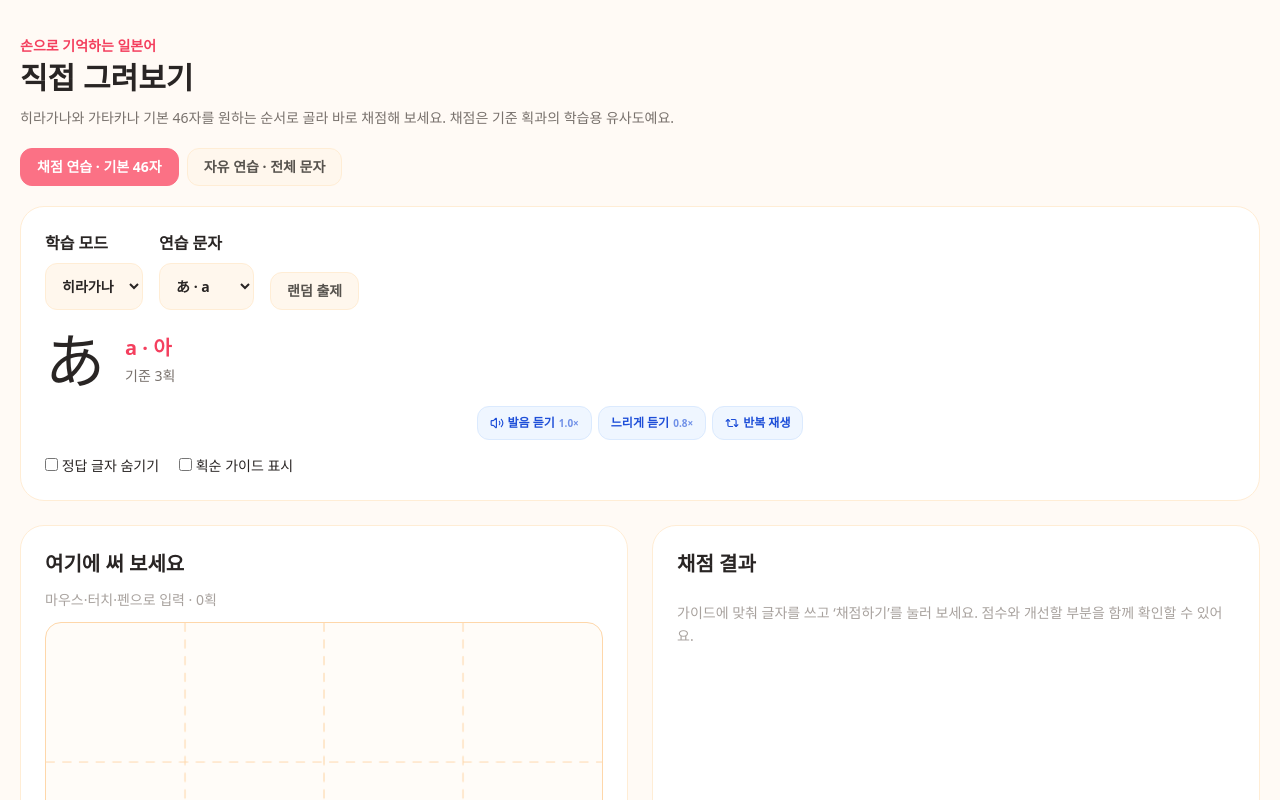
Test: 손글씨 1.3 화면 › 저장한 가이드 표시 설정을 복원하고 사용자가 가이드 연습을 선택할 때만 켠다
Expected: the checkbox labelled "획순 가이드 표시" is not checked, [179,458,192,471]
Click the button "채점 연습 · 기본 46자" at (99, 167), box [20,148,179,186]
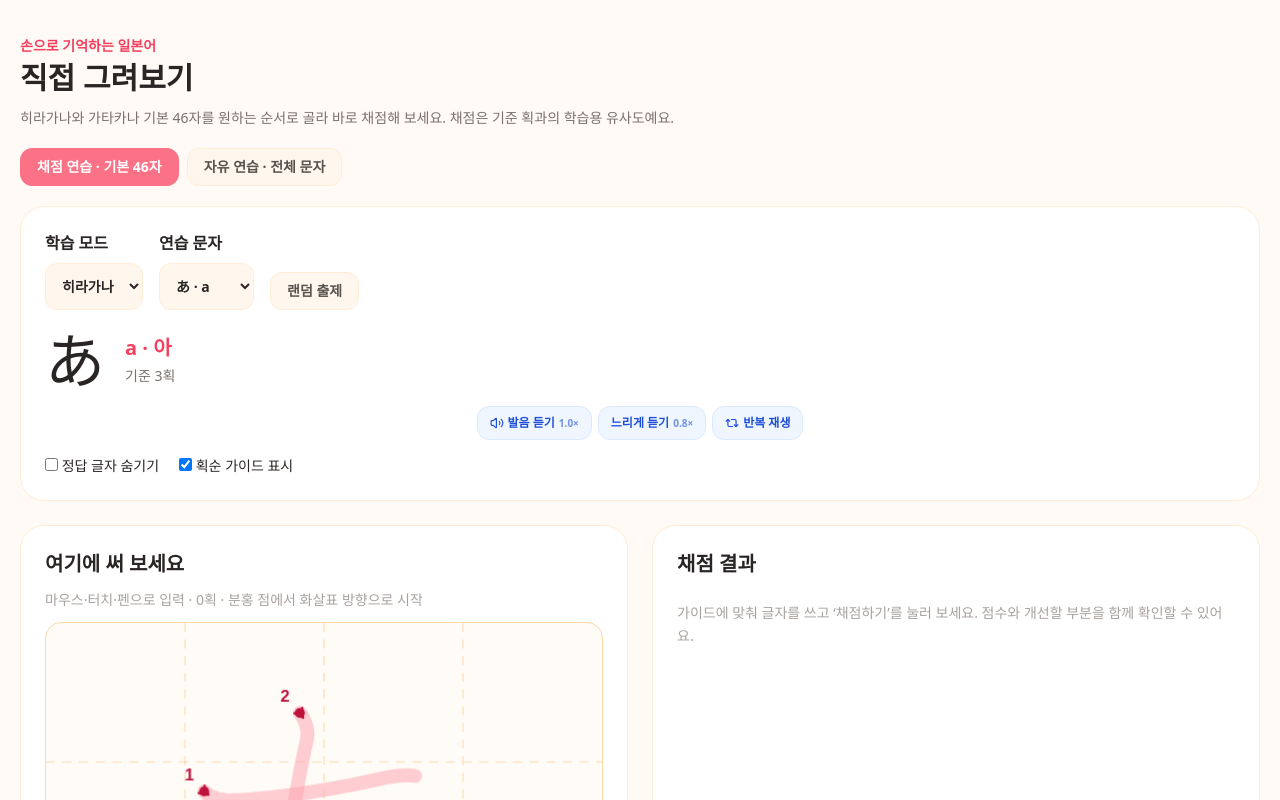
Result: the checkbox labelled "획순 가이드 표시" is checked at [179,458,192,471]
